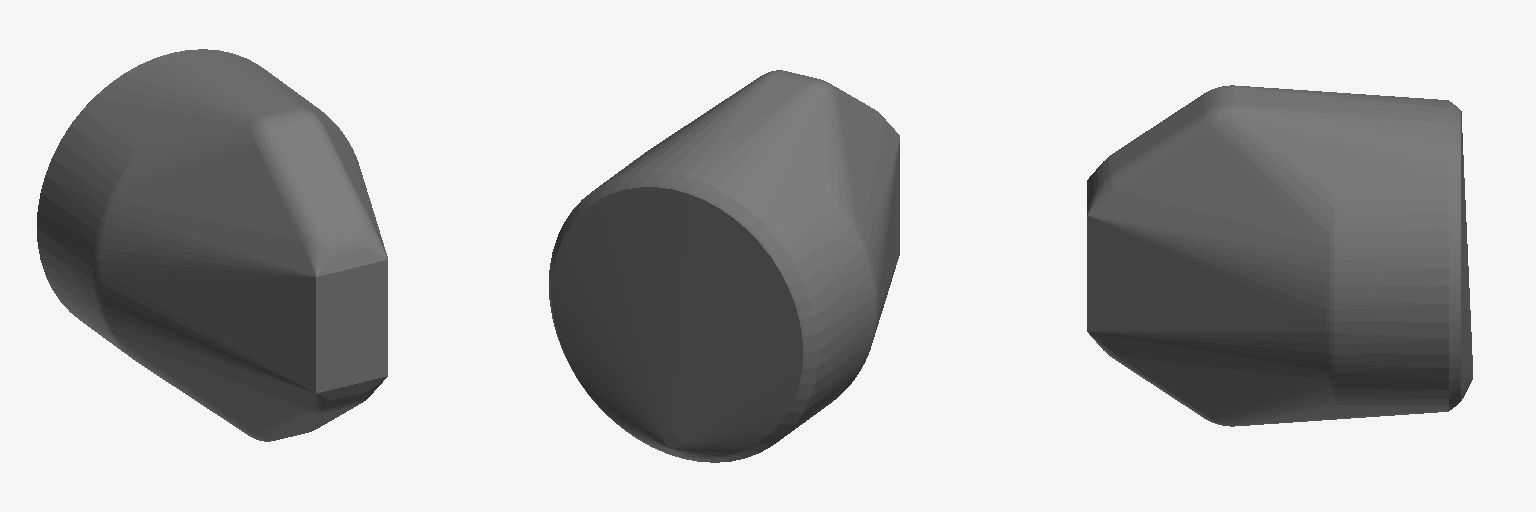
Rendered from robotiq_arg2f_85_base_link.obj.
The picture shows the model from 3 angles: view 1: azimuth 30°, elevation 25°; view 2: azimuth 150°, elevation 25°; view 3: azimuth 270°, elevation 25°; orthographic projection.
Parts seen in each view (by area): view 1: robotiq_arg2f_85_base_link; view 2: robotiq_arg2f_85_base_link; view 3: robotiq_arg2f_85_base_link.
Part boxes in pixels (x1,y1,x2,y2): robotiq_arg2f_85_base_link: (37,49,387,441); robotiq_arg2f_85_base_link: (549,70,899,462); robotiq_arg2f_85_base_link: (1087,85,1472,426).
Bounding box in the file's own units: 0.075 × 0.0849 × 0.0927.